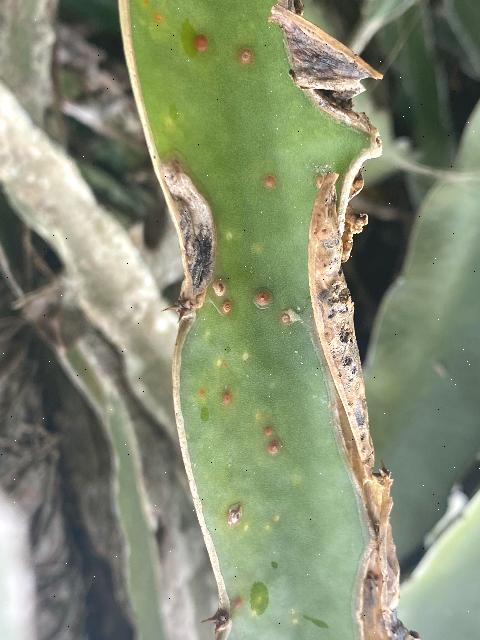stemcanker: (120, 2, 423, 640)
